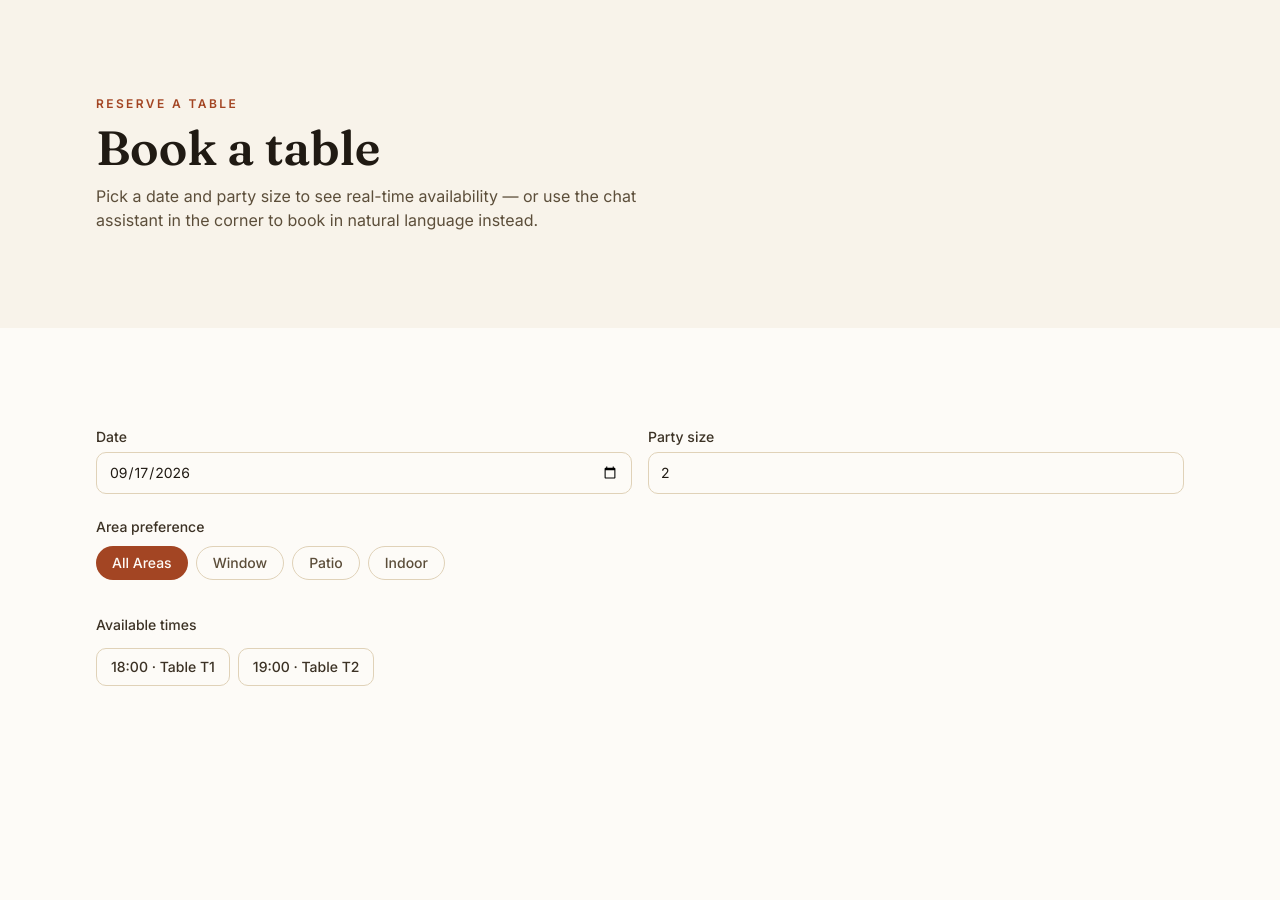
it: Book a table flow › creates a real booking via the API when a logged-in customer confirms
The image size is (1280, 900).
Click the button "18:00 · Table T1" at (163, 667), box x1=96 y1=648 x2=230 y2=686
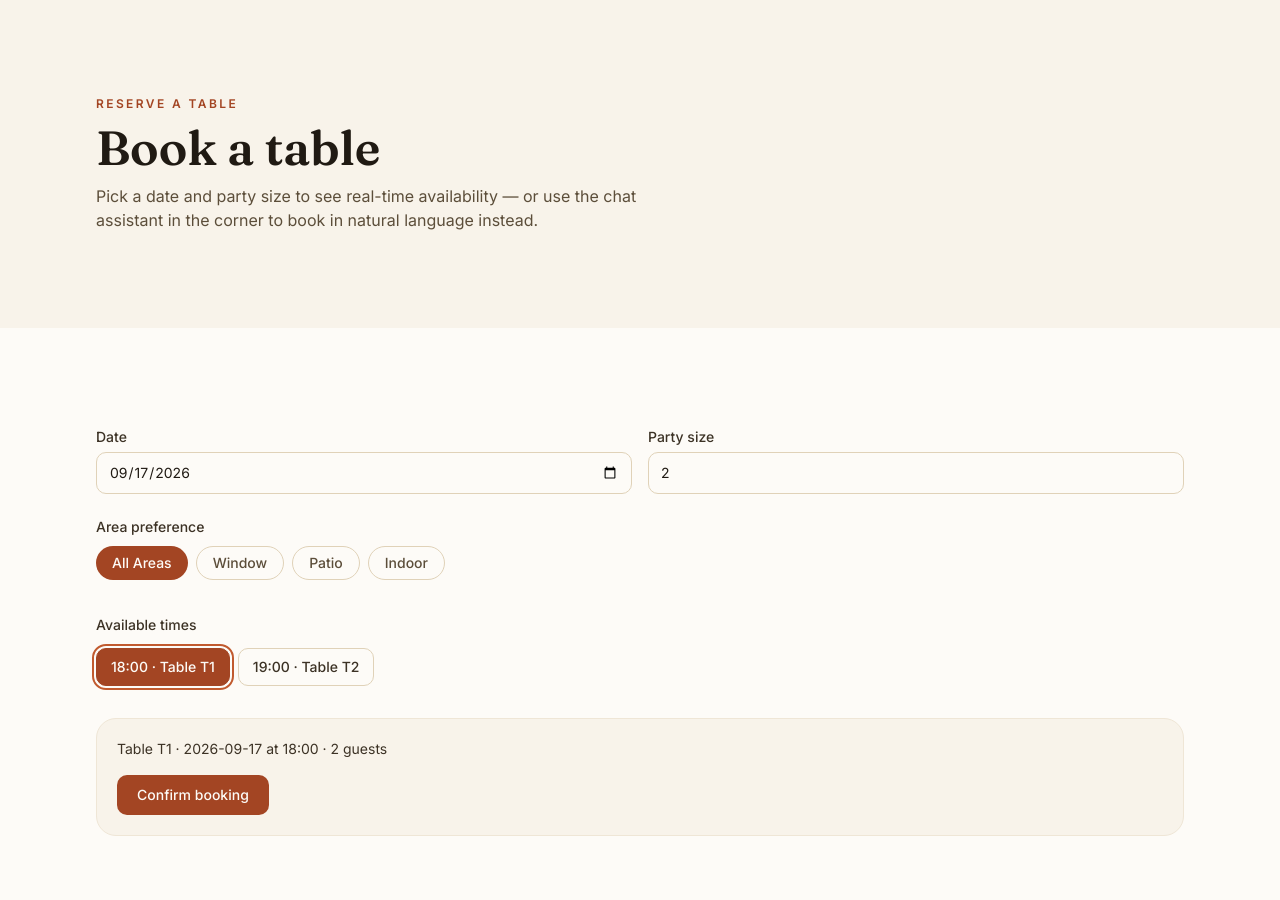
Click the button "Confirm booking" at (193, 795), box x1=117 y1=775 x2=269 y2=815
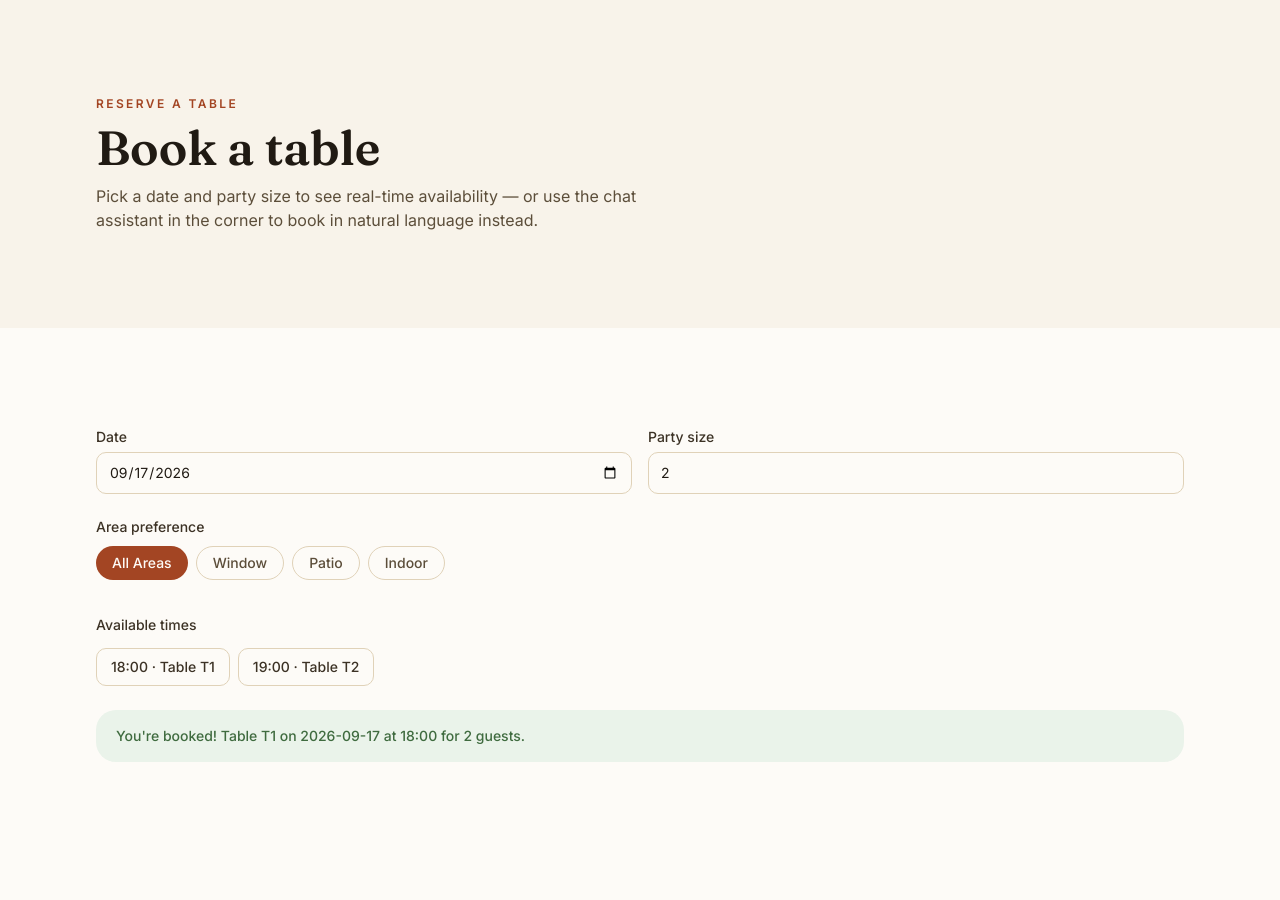
Now the text "You're booked! Table T1 on 2026-09-17 at 18:00 for 2 guests." is shown, box x1=96 y1=710 x2=1184 y2=762
